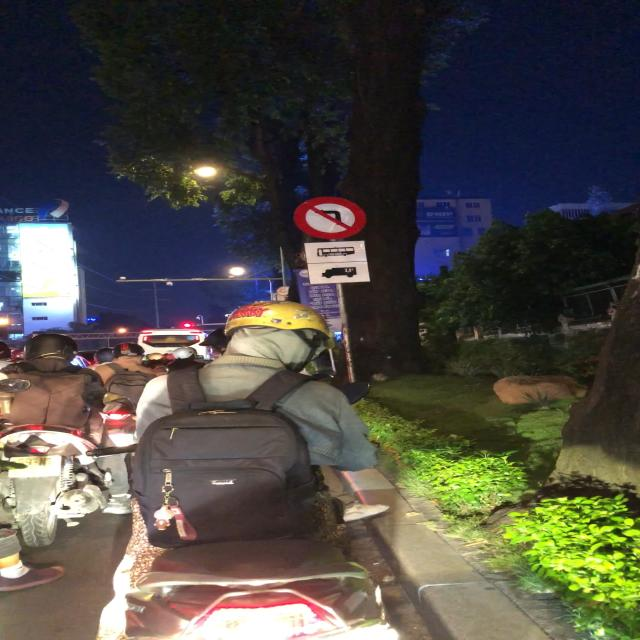Bien bao cam re trai: (290, 195, 368, 240)
